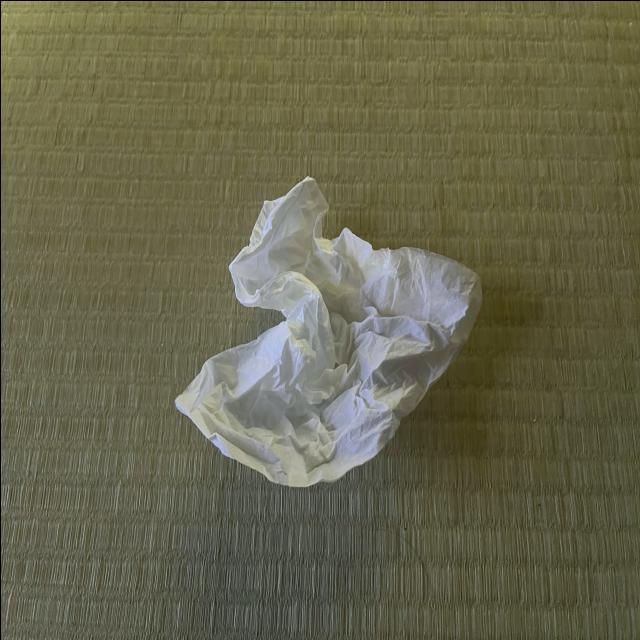Paper: (166, 174, 480, 484)
